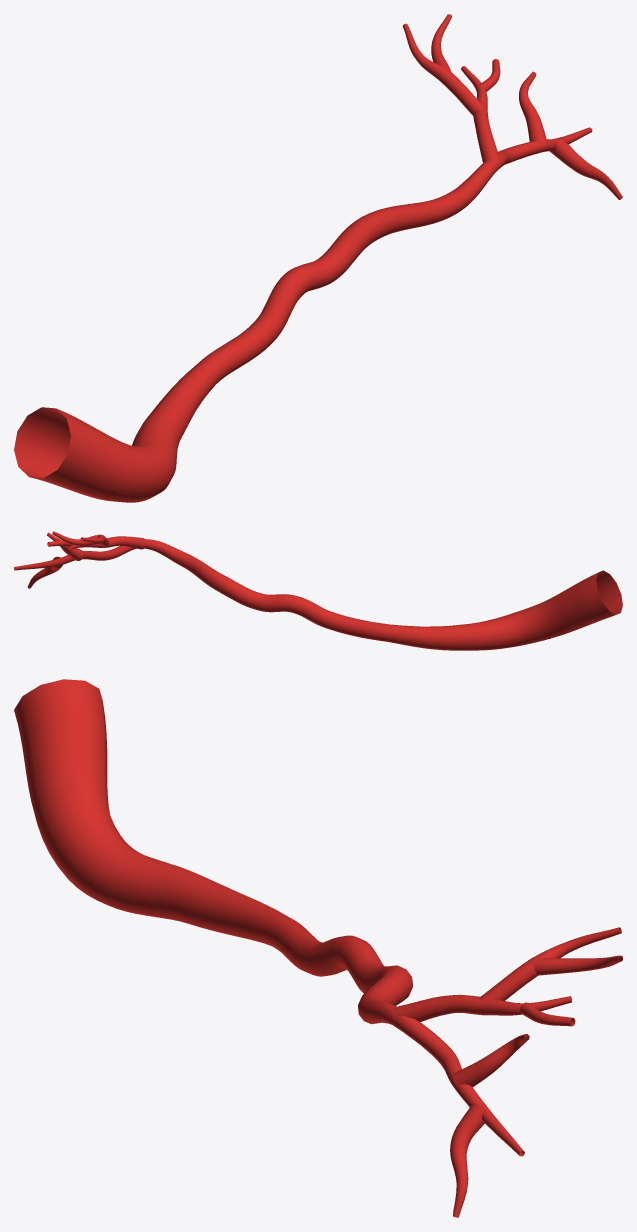
Rendered from circulatorio-splenic-artery.glb.
3 renders of one model, top to bottom at view 1: azimuth 30°, elevation 25°; view 2: azimuth 150°, elevation 25°; view 3: azimuth 270°, elevation 25°, orthographic. The views are drawn at different scales.
Parts seen in each view (by area): view 1: Splenic artery; view 2: Splenic artery; view 3: Splenic artery.
Boxes of the visible parts, left/top/right/bottom form: Splenic artery: left=14, top=14, right=622, bottom=502; Splenic artery: left=14, top=531, right=622, bottom=650; Splenic artery: left=14, top=679, right=622, bottom=1217.
Size of the model in its own units: 0.0947 by 0.0245 by 0.0535.
